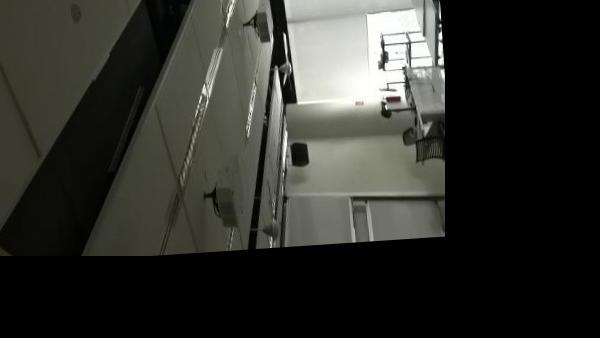light_off: (150, 70, 228, 196), (214, 0, 248, 33)
